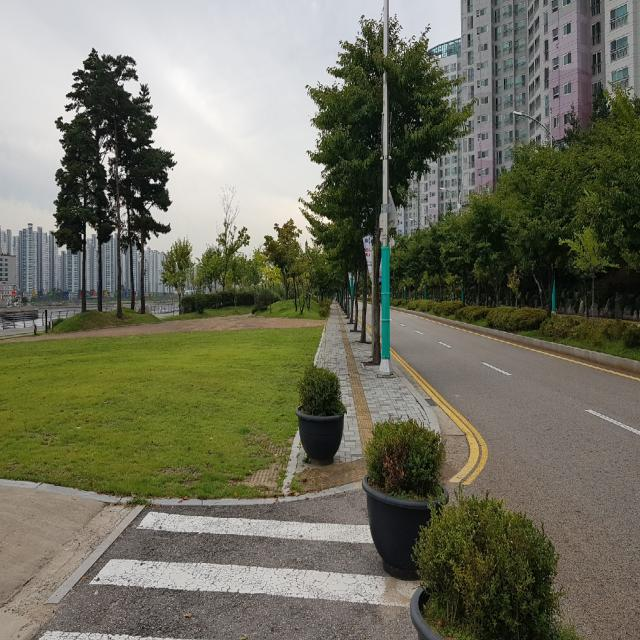횡단보도: (35, 508, 424, 640)
